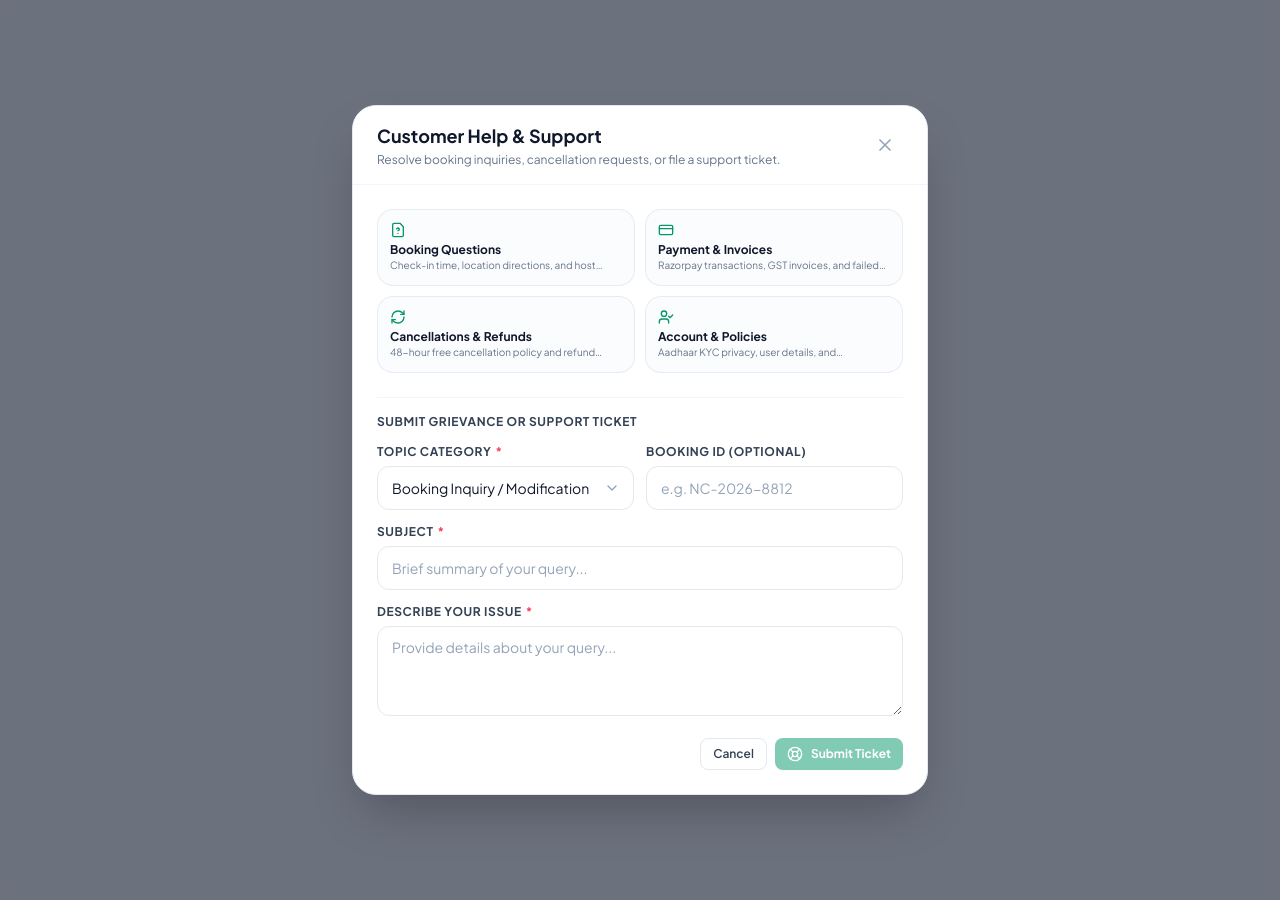
Test: Customer Support & Tickets Suite › renders SupportModal and submits grievance ticket
The image size is (1280, 900).
Check: the heading "Customer Help & Support" is shown, box [377,124,602,147]
Type "Cancellation query" into the field labelled "Subject*".
click(640, 568); type("Cancellation query")  # box [377,546,903,590]
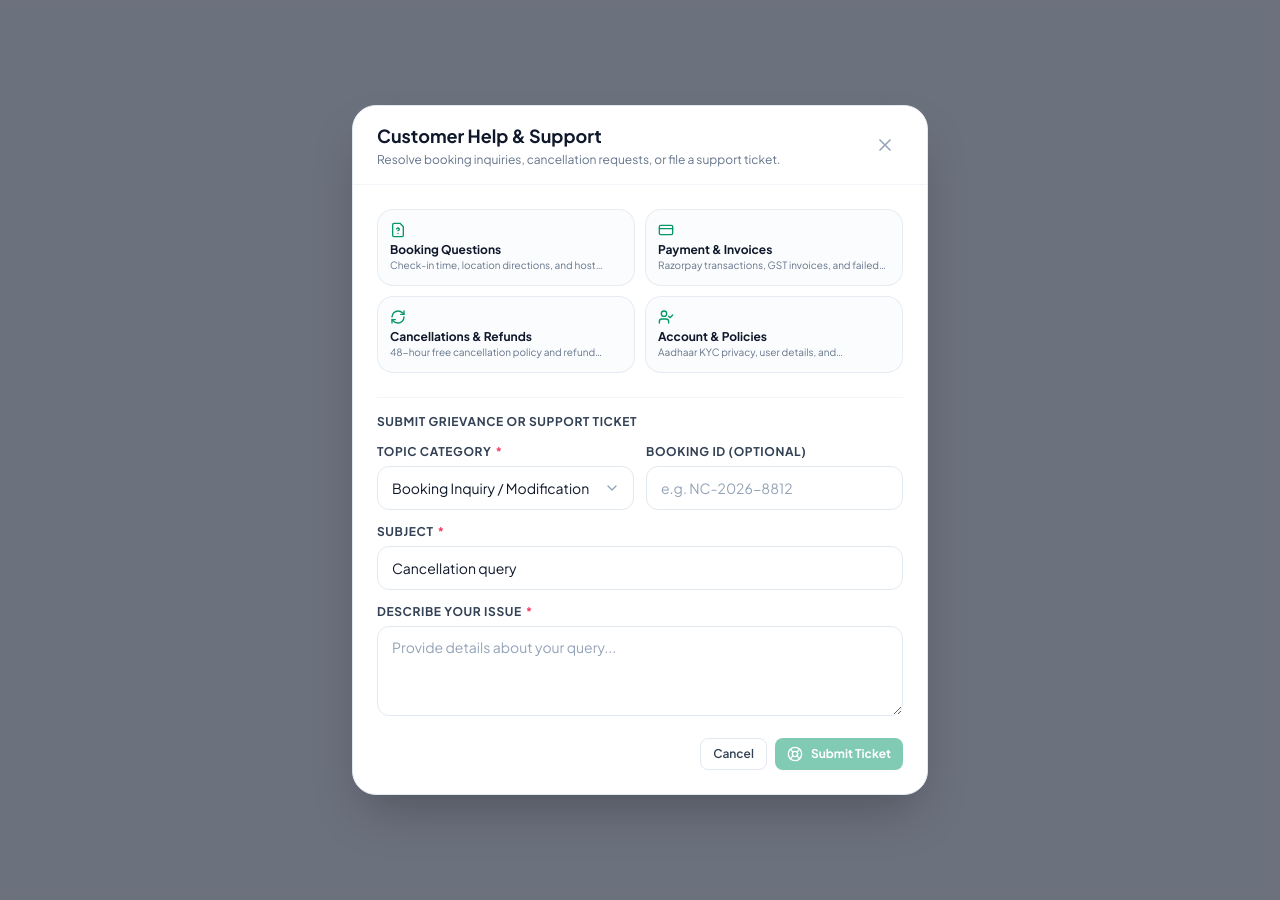
Type "Can I reschedule to the following weekend?" into the text box labelled "Describe your issue*".
click(640, 671); type("Can I reschedule to the following weekend?")  # box [377,626,903,716]
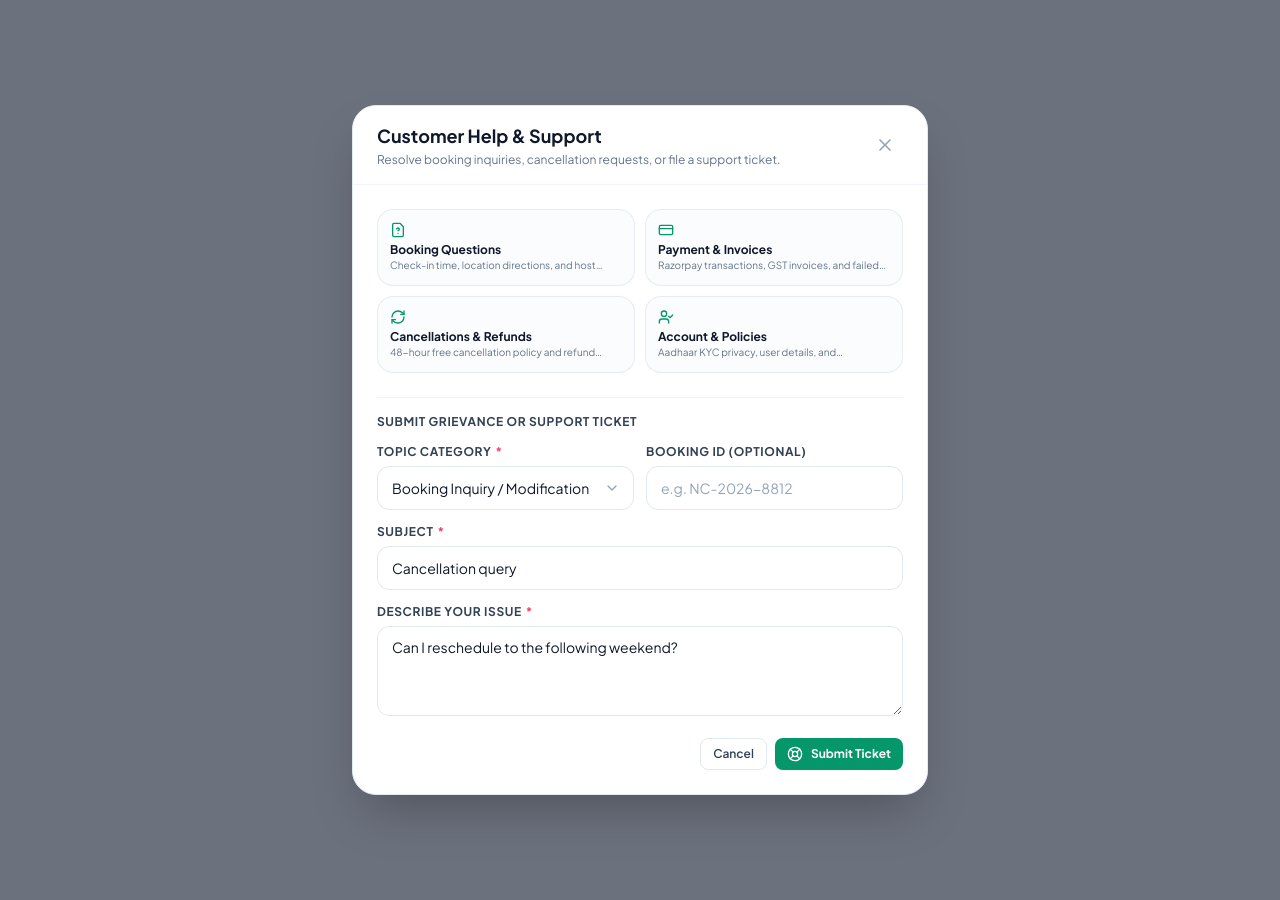
Click the button "Submit Ticket".
click(839, 754)  # box [775,738,903,770]
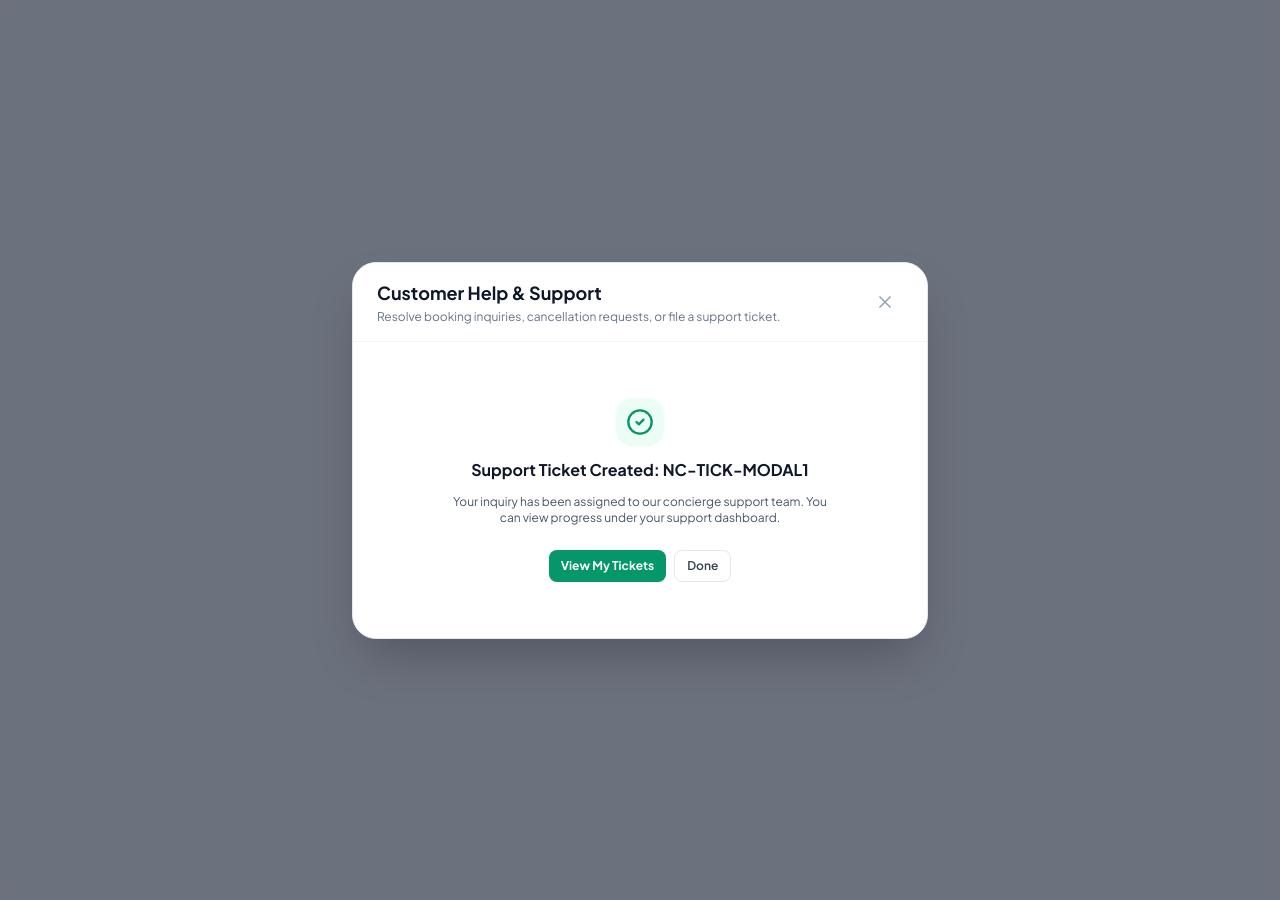
Check: the heading "Support Ticket Created: NC-TICK-MODAL1" is shown, box [471,458,809,480]
